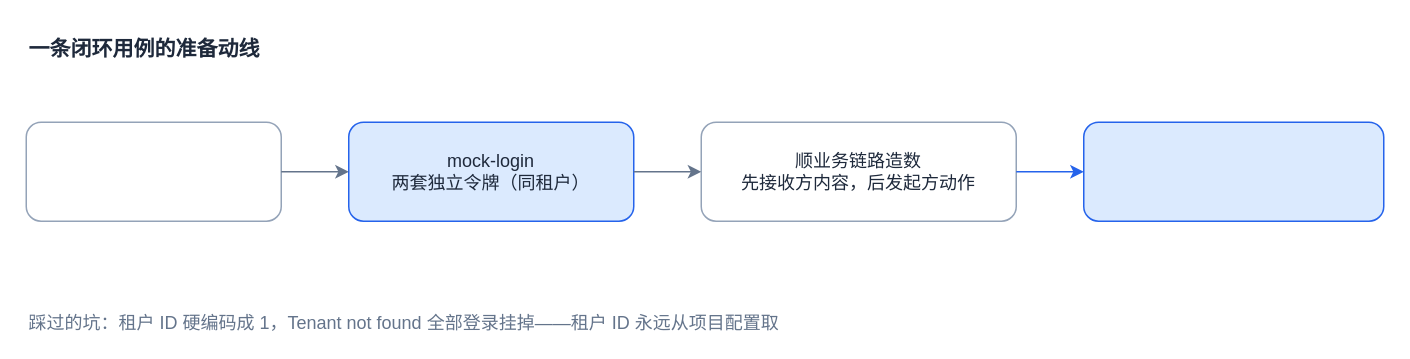
Some shapes in this 1410 by 359 pixel diagram are drawn without their labels. Here are the shapes that lost their labels. From the top down, the centre of each, then its label:
At [153,171]: "清洗脚本 清旧通知旧内容".
At [1233,171]: "错位断言 发起方操作，接收方查库".
